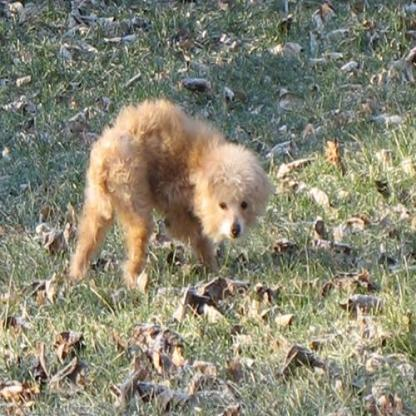toy_poodle: (66, 93, 270, 286)
